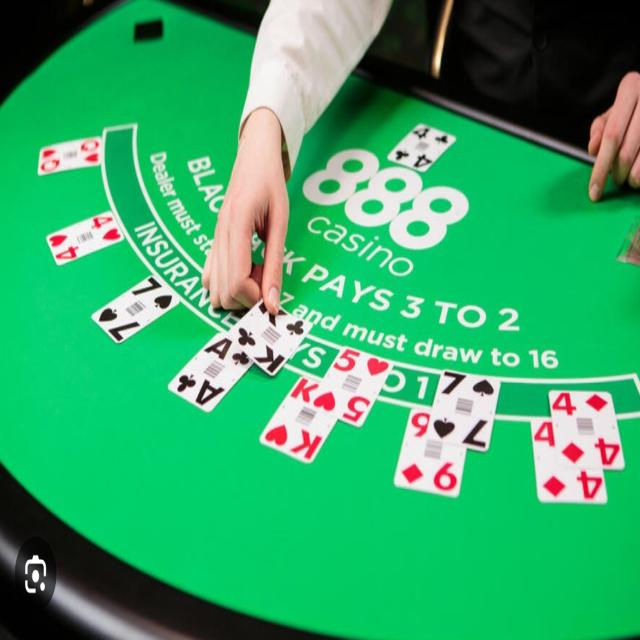Card-4: (531, 419, 606, 502), (550, 391, 625, 466), (45, 208, 124, 265), (387, 123, 455, 174)
Card-5: (312, 342, 393, 427)
Card-7: (93, 273, 179, 345), (430, 371, 500, 448)
Card-9: (393, 408, 465, 500)
Card-A: (168, 327, 254, 411)
Card-K: (257, 372, 337, 464), (227, 297, 312, 374)
Card-Q: (38, 135, 101, 175)
